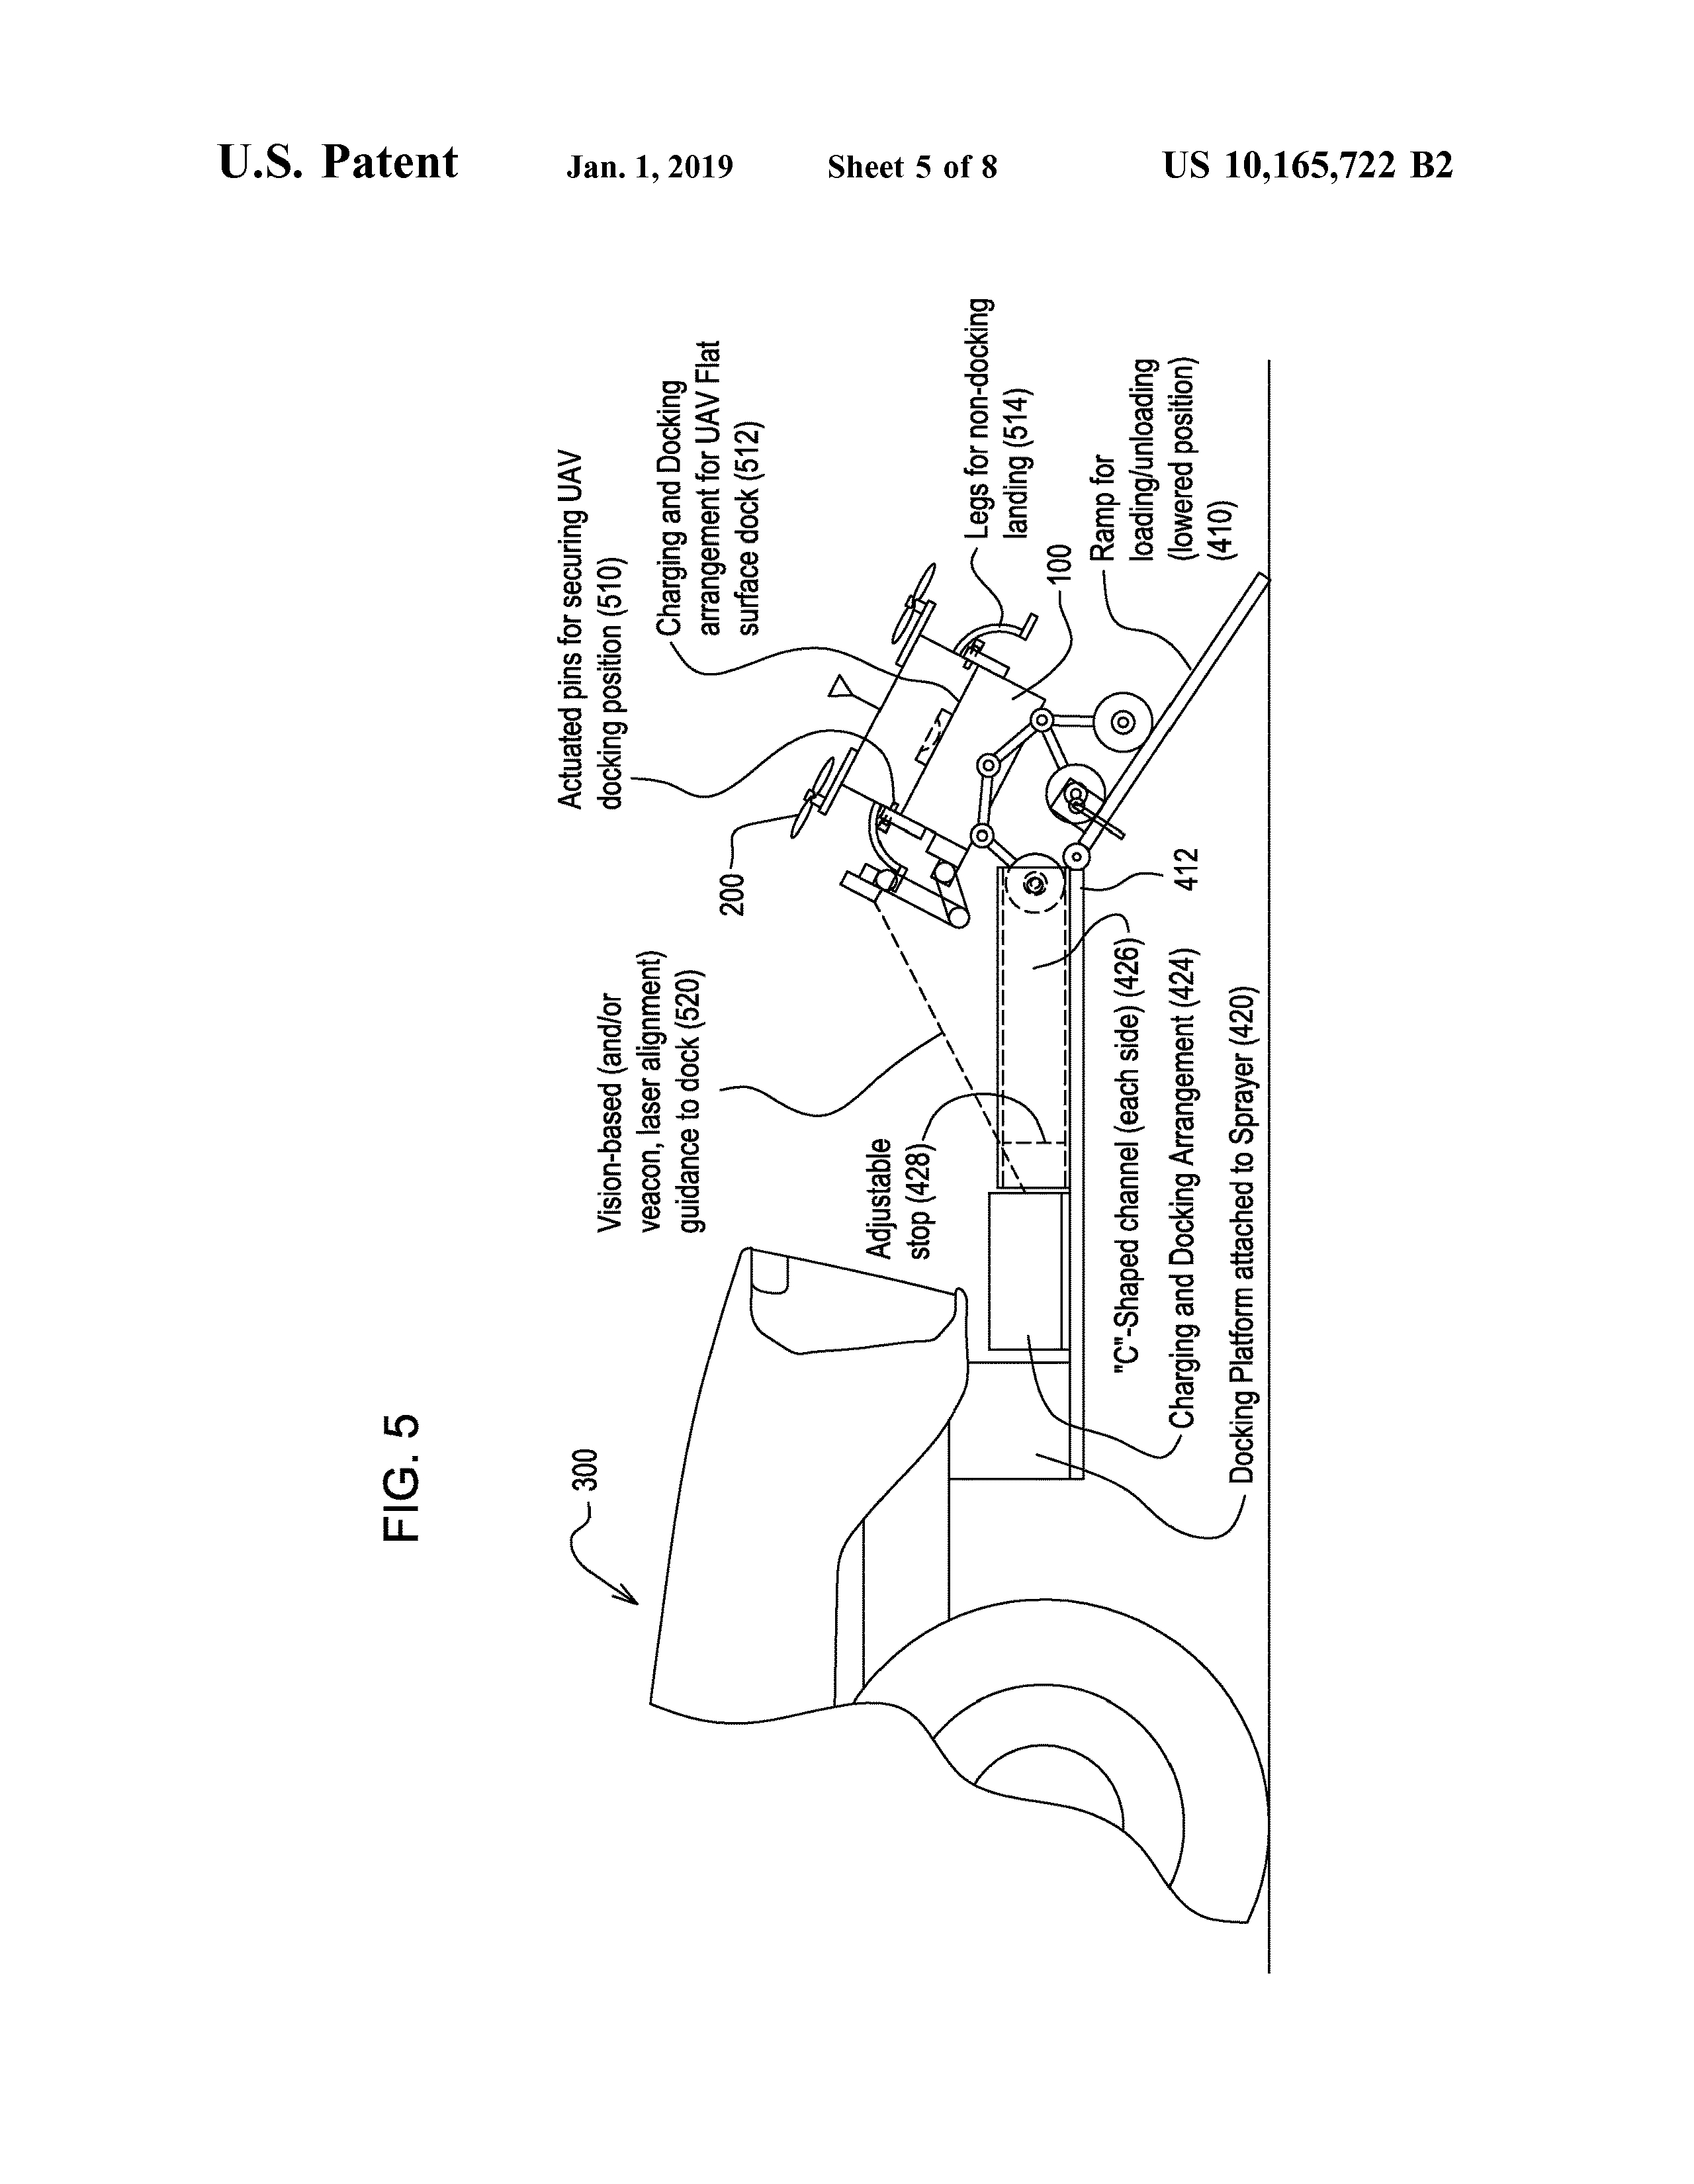patent image: (345, 261, 1378, 2026)
